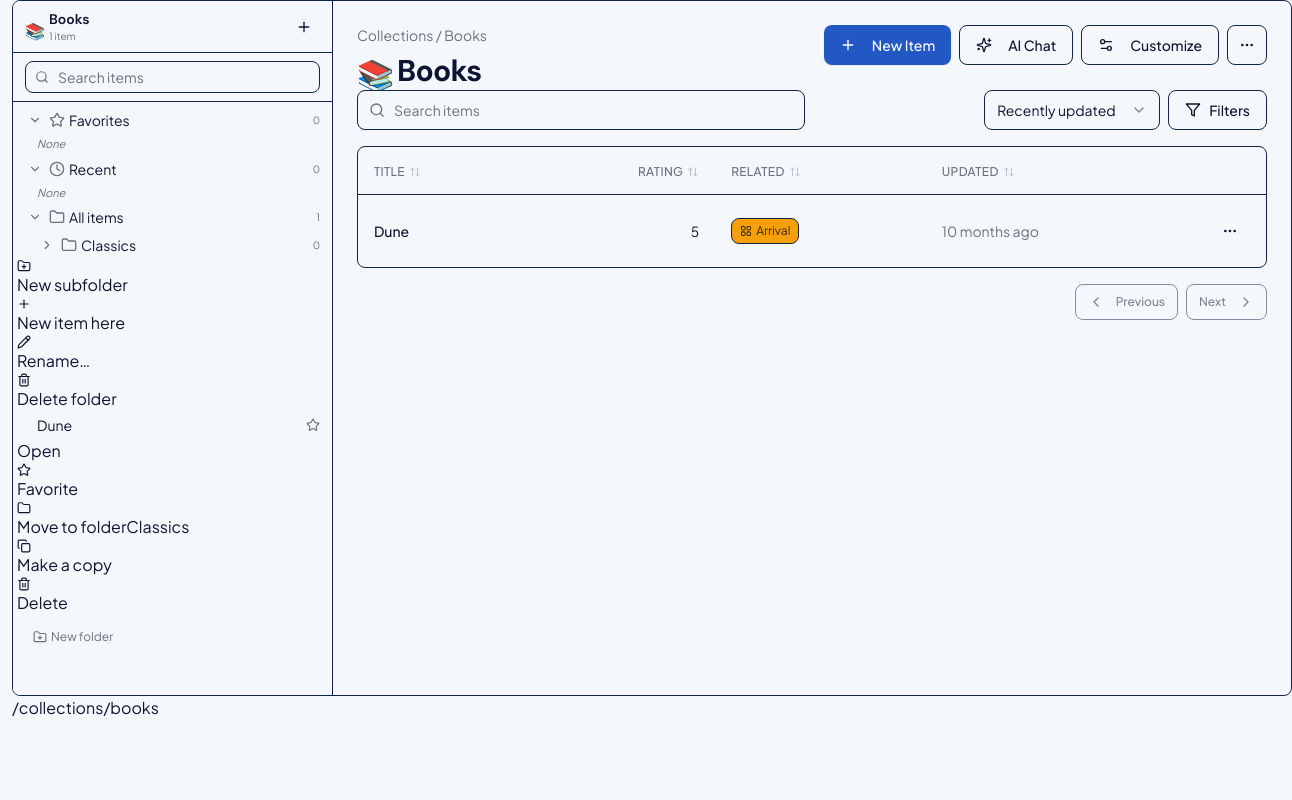
Test: CollectionDetail › opens a linked item of another collection under that collection
Click the button "Arrival" at (765, 231), box [731,218,800,244]
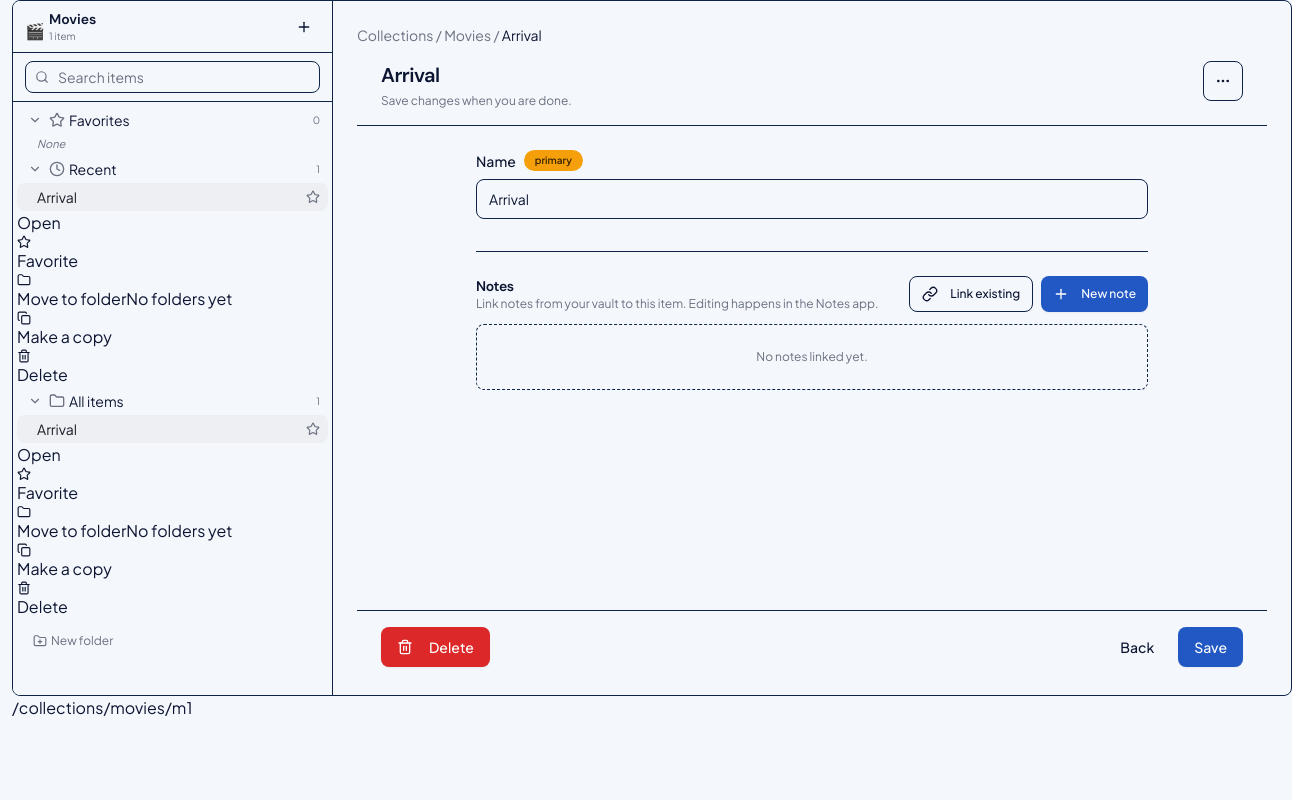
Expected: the text with test id "location" reads "/collections/movies/m1", [12,697,192,718]
